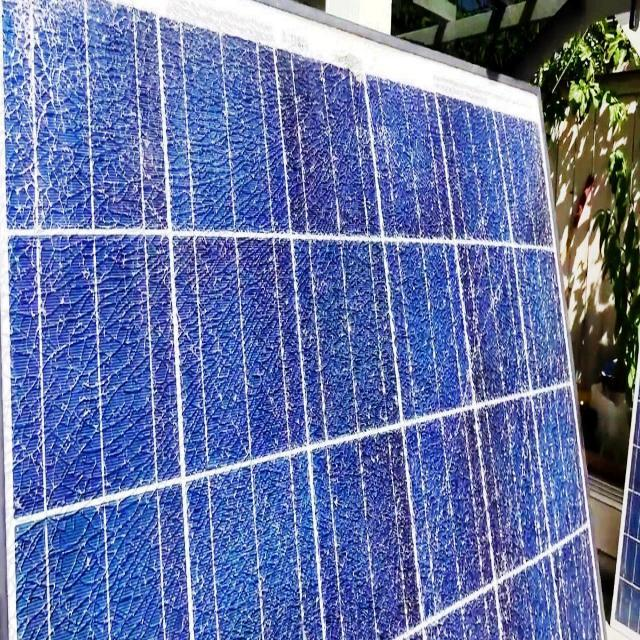faulty: (0, 9, 597, 640)
